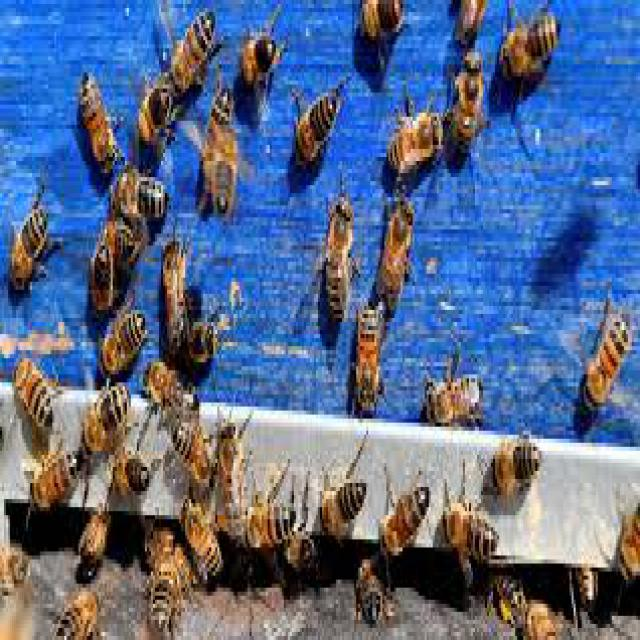Abeille: (574, 289, 639, 426), (439, 468, 497, 592), (71, 64, 126, 181), (6, 192, 65, 297), (497, 2, 574, 81), (376, 190, 418, 322), (378, 463, 434, 561), (318, 190, 358, 326), (449, 49, 488, 188), (386, 94, 446, 181), (9, 337, 63, 432), (294, 82, 349, 174), (428, 356, 494, 431), (81, 383, 140, 465), (352, 297, 393, 415), (168, 2, 218, 94), (317, 458, 371, 542), (172, 398, 216, 500), (24, 443, 83, 518), (101, 296, 154, 379), (114, 159, 170, 235), (250, 481, 294, 567), (145, 529, 184, 626), (487, 443, 547, 502)
